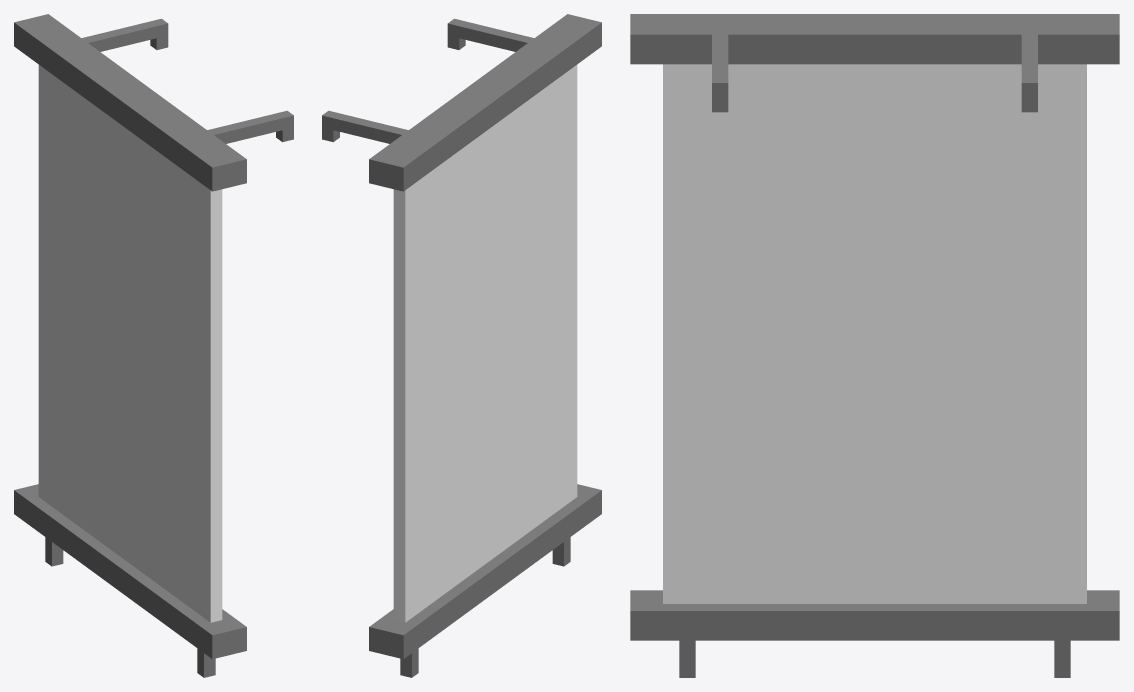
File: board.fbx
The picture shows the model from 3 angles, left to right: view 1: azimuth 30°, elevation 25°; view 2: azimuth 150°, elevation 25°; view 3: azimuth 270°, elevation 25°; orthographic projection. The views are drawn at different scales.
Visible parts, largest first — view 1: Matrix, Matrix_1, Matrix_2, Matrix_5, Matrix_6; view 2: Matrix, Matrix_1, Matrix_2, Matrix_6, Matrix_5; view 3: Matrix, Matrix_1, Matrix_2, Matrix_5, Matrix_6.
Boxes of the visible parts, box(x1,y1,x2,y2) form: Matrix: box(38, 65, 222, 622); Matrix_1: box(14, 14, 246, 191); Matrix_2: box(14, 484, 246, 659); Matrix_5: box(71, 18, 168, 51); Matrix_6: box(196, 110, 293, 143); Matrix: box(393, 65, 577, 622); Matrix_1: box(369, 14, 601, 191); Matrix_2: box(369, 484, 601, 659); Matrix_6: box(447, 18, 545, 51); Matrix_5: box(322, 110, 419, 143); Matrix: box(663, 64, 1086, 603); Matrix_1: box(630, 14, 1119, 64); Matrix_2: box(630, 590, 1119, 640); Matrix_5: box(1021, 27, 1037, 112); Matrix_6: box(712, 27, 728, 112).
Bounding box in the file's own units: 10 × 44 × 30.
